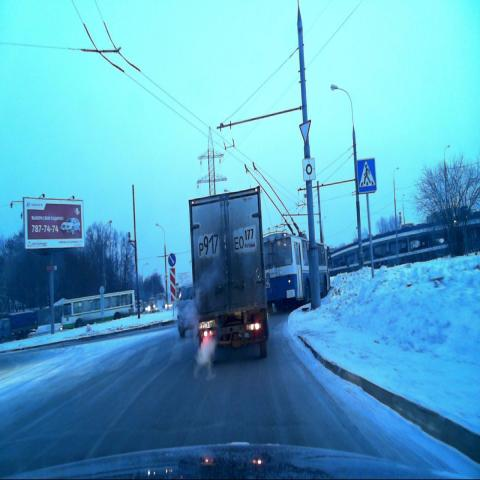8_13_1: (302, 158, 316, 183)
